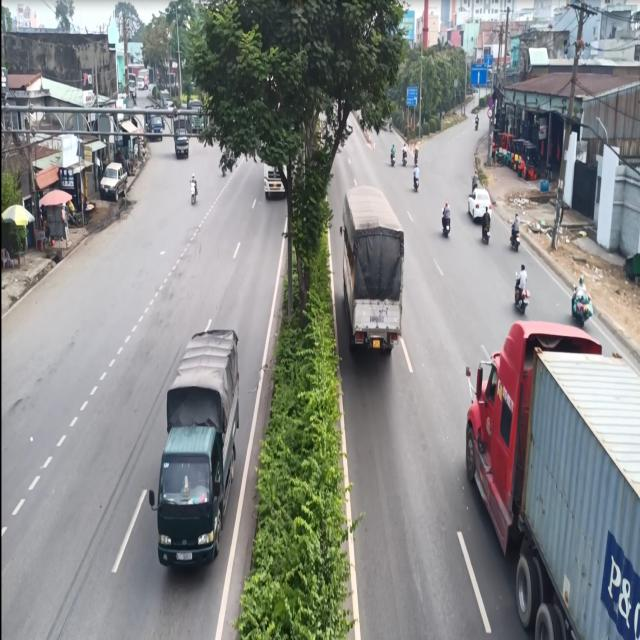motor: (572, 278, 594, 323), (512, 263, 530, 311), (437, 198, 454, 240), (509, 212, 522, 254)
truck: (457, 304, 640, 639), (158, 324, 243, 579), (338, 185, 416, 366)
